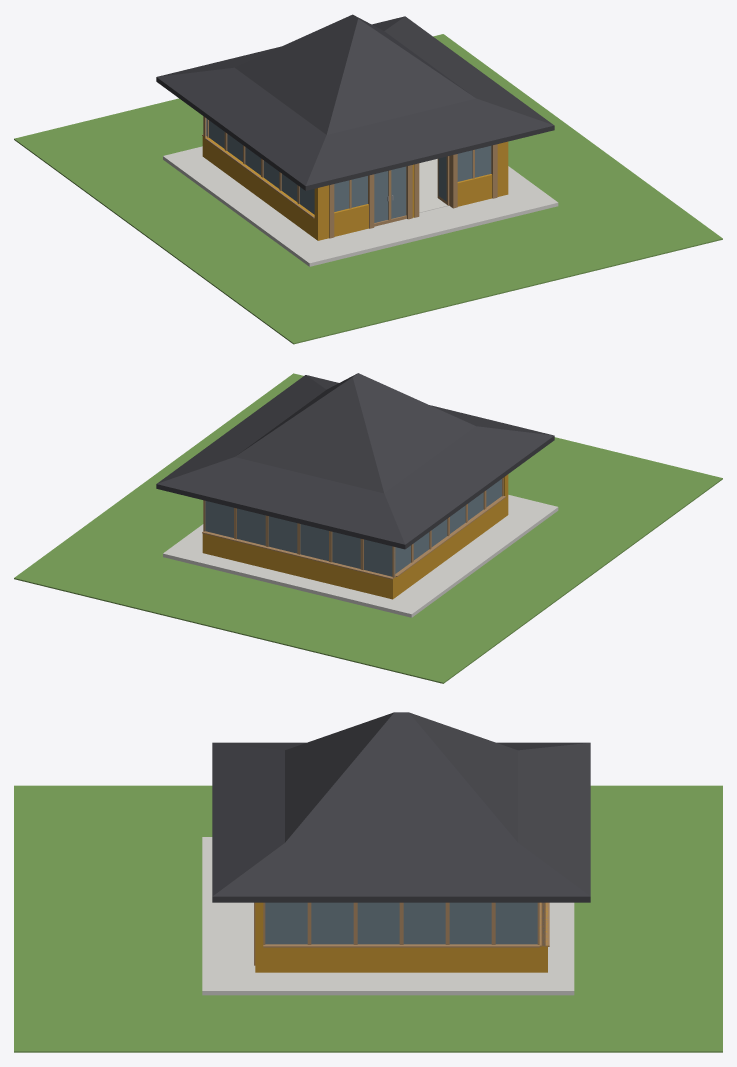
File: arawana.glb
The picture shows the model from 3 angles, top to bottom: view 1: azimuth 30°, elevation 25°; view 2: azimuth 150°, elevation 25°; view 3: azimuth 270°, elevation 25°; orthographic projection. The views are drawn at different scales.
Parts seen in each view (by area): view 1: Arawana; view 2: Arawana; view 3: Arawana.
Boxes of the visible parts, <box> form: Arawana: <box>14,14,722,344</box>; Arawana: <box>14,373,722,683</box>; Arawana: <box>14,712,722,1052</box>.
Size of the model in its own units: 19.03 by 6.93 by 21.46.
